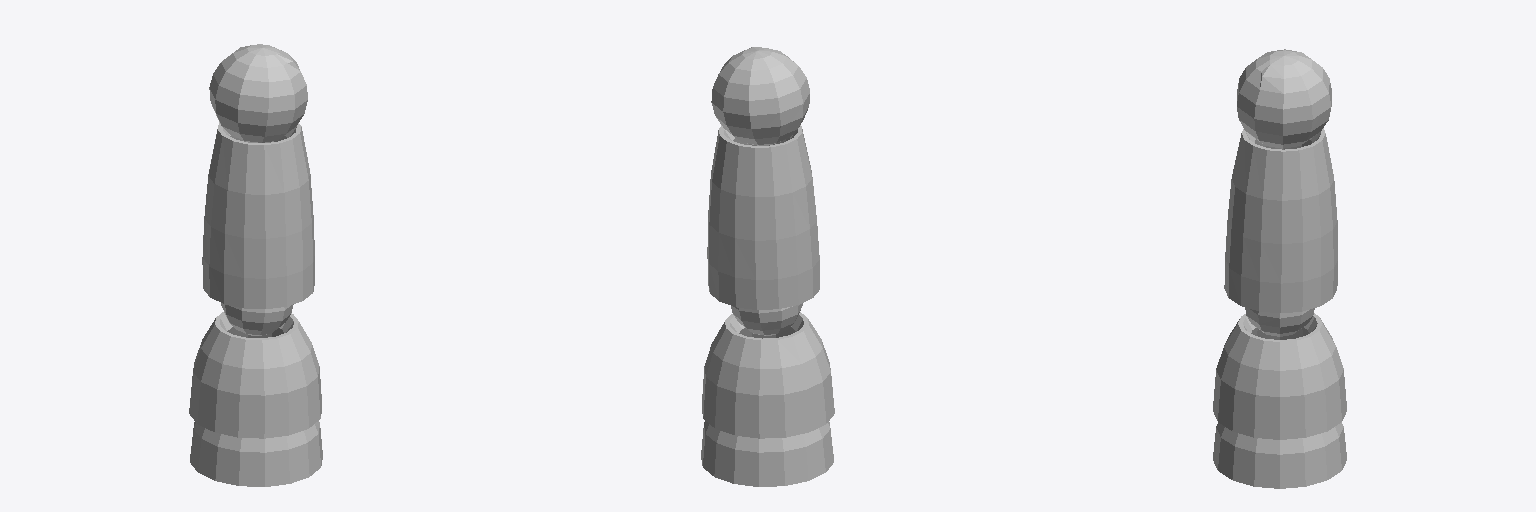
The model's file is high_right_arm.obj.
The picture shows the model from 3 angles: view 1: azimuth 30°, elevation 25°; view 2: azimuth 150°, elevation 25°; view 3: azimuth 270°, elevation 25°; orthographic projection.
Parts seen in each view (by area): view 1: polySurface30; view 2: polySurface30; view 3: polySurface30.
Boxes of the visible parts, x1,y1,x2,y2 form: polySurface30: [189, 44, 322, 486]; polySurface30: [701, 47, 834, 486]; polySurface30: [1213, 49, 1346, 488].
Size of the model in its own units: 2.06 by 6.87 by 2.05.